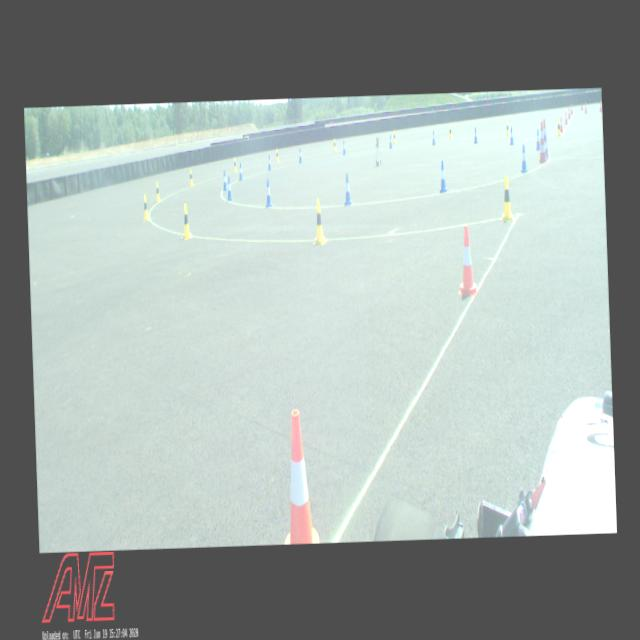blue_cone: (438, 160, 447, 192), (344, 173, 352, 205), (520, 144, 527, 172), (265, 178, 272, 206), (226, 177, 232, 200), (508, 126, 514, 144), (222, 170, 227, 190), (535, 129, 540, 149), (544, 134, 548, 158), (238, 162, 243, 180), (268, 154, 272, 170), (473, 127, 477, 143), (298, 148, 302, 162), (431, 130, 435, 144), (389, 134, 392, 148), (342, 140, 345, 154)
large_orange_cone: (538, 121, 546, 161), (542, 118, 548, 156)
orange_cone: (280, 410, 319, 544), (456, 225, 478, 295), (560, 116, 563, 132), (564, 111, 567, 124), (568, 106, 570, 118), (584, 101, 586, 112), (599, 100, 601, 111), (570, 104, 572, 114)
unknown_cone: (580, 104, 582, 110)
yellow_cone: (312, 199, 324, 244), (500, 176, 512, 220), (182, 204, 190, 238), (142, 193, 149, 220), (155, 181, 160, 201), (556, 120, 561, 136), (189, 168, 193, 186), (505, 120, 509, 136), (448, 125, 452, 138), (333, 138, 336, 152), (233, 158, 236, 172), (276, 148, 278, 162), (393, 130, 395, 143)
